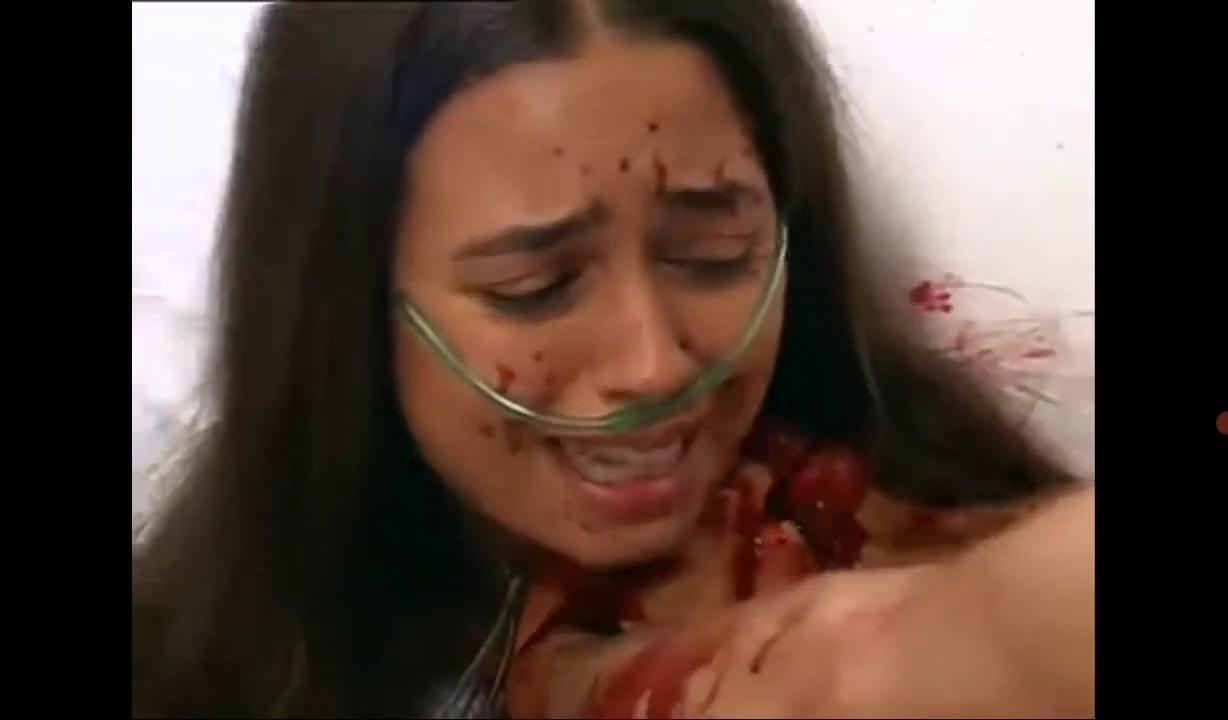Fire: (445, 424, 872, 719), (539, 103, 778, 228), (911, 271, 1062, 404), (482, 351, 566, 406), (476, 403, 546, 456)
